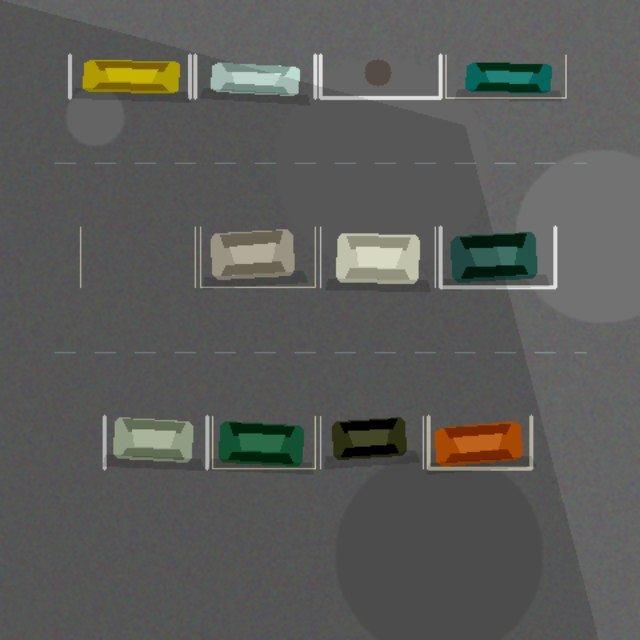space-empty: (80, 227, 195, 287), (320, 55, 440, 97)
space-occupied: (200, 227, 315, 287), (320, 227, 435, 287), (440, 227, 555, 287), (104, 416, 207, 468), (212, 416, 315, 468), (320, 416, 423, 468), (428, 416, 531, 468), (69, 55, 189, 97), (195, 55, 315, 97), (445, 55, 565, 97)
